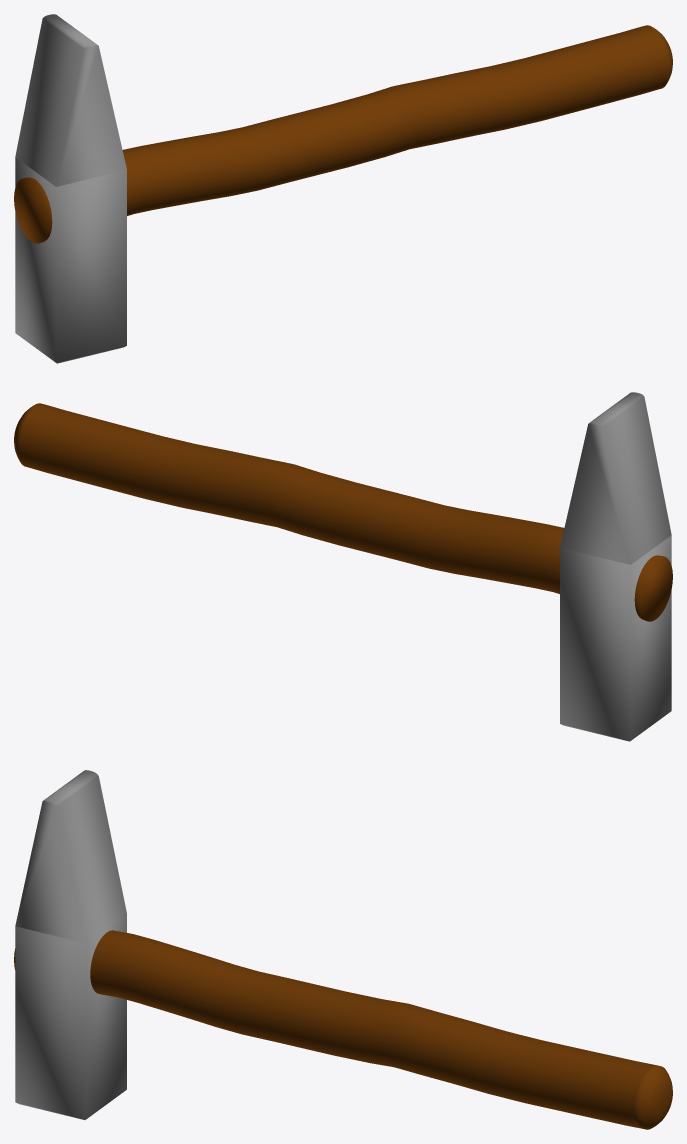
The model's file is hammer.fbx.
The picture shows the model from 3 angles, top to bottom: view 1: azimuth 30°, elevation 25°; view 2: azimuth 150°, elevation 25°; view 3: azimuth 330°, elevation 25°; orthographic projection.
Parts seen in each view (by area): view 1: Cylinder, Cube; view 2: Cylinder, Cube; view 3: Cylinder, Cube.
Part boxes in pixels (<box>): Cylinder: <box>14,25,672,243</box>; Cube: <box>15,14,126,363</box>; Cylinder: <box>14,403,672,621</box>; Cube: <box>560,392,671,741</box>; Cylinder: <box>14,930,672,1129</box>; Cube: <box>15,770,126,1119</box>.
Size of the model in its own units: 7.17 by 3.43 by 0.8014.
